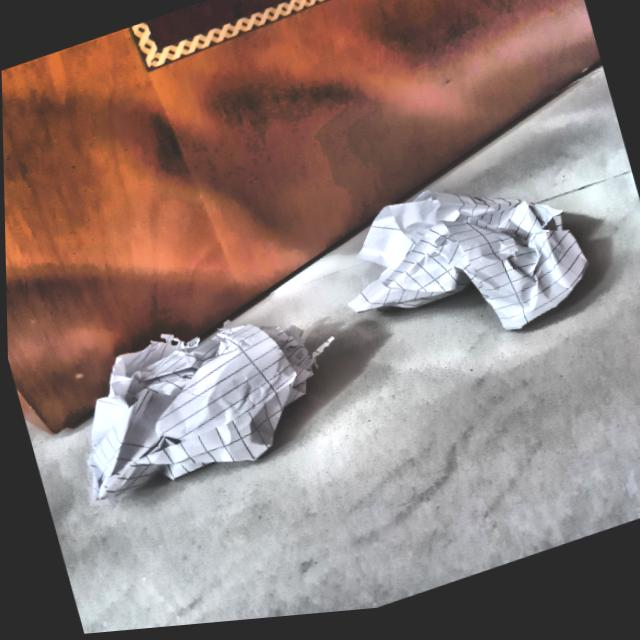Paper: (335, 153, 606, 386), (60, 292, 342, 514)
